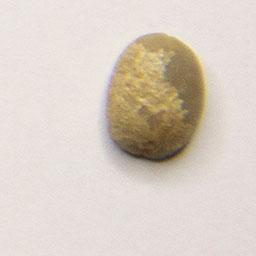peaberry: (102, 28, 207, 168)
